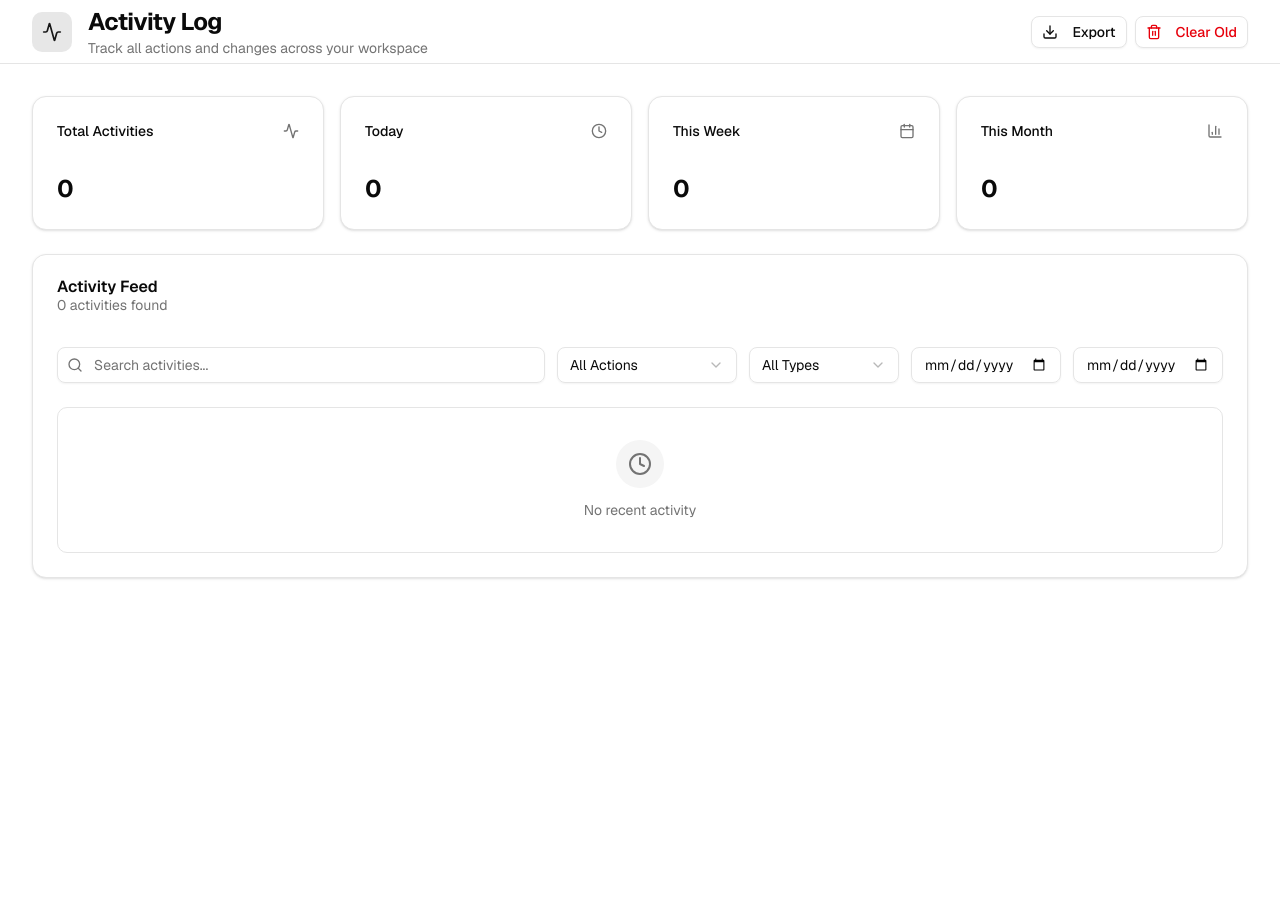
Test: ActivityLogPage › should open clear dialog when clear old button is clicked
The width and height of the screenshot is (1280, 900).
Click the button "Clear Old". click: (1191, 32)
box: [1135,16,1248,48]
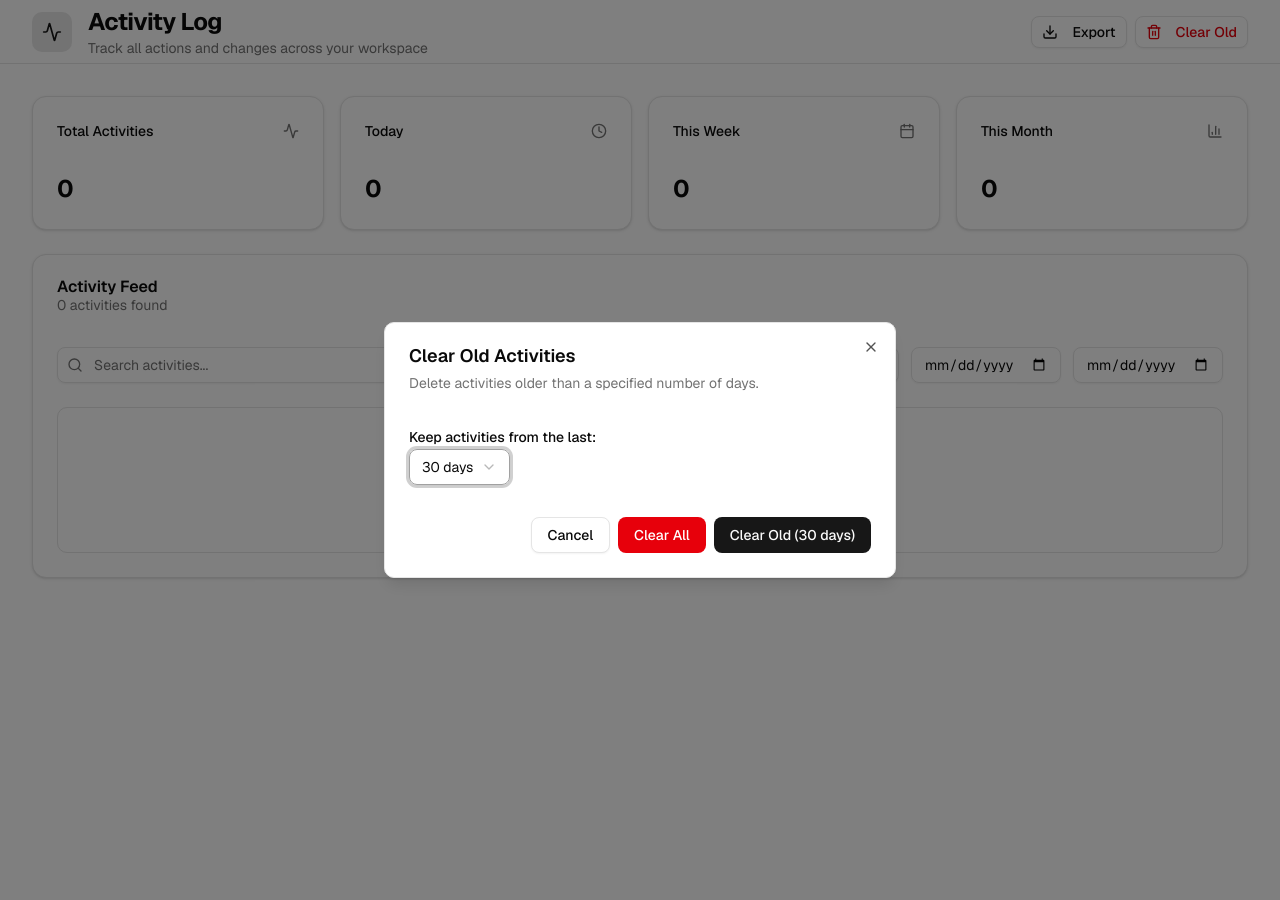
Result: the heading "Clear Old Activities" is shown at [409,344,576,367]
Result: the text "Delete activities older than a specified number of days." is shown at [409,374,759,392]
